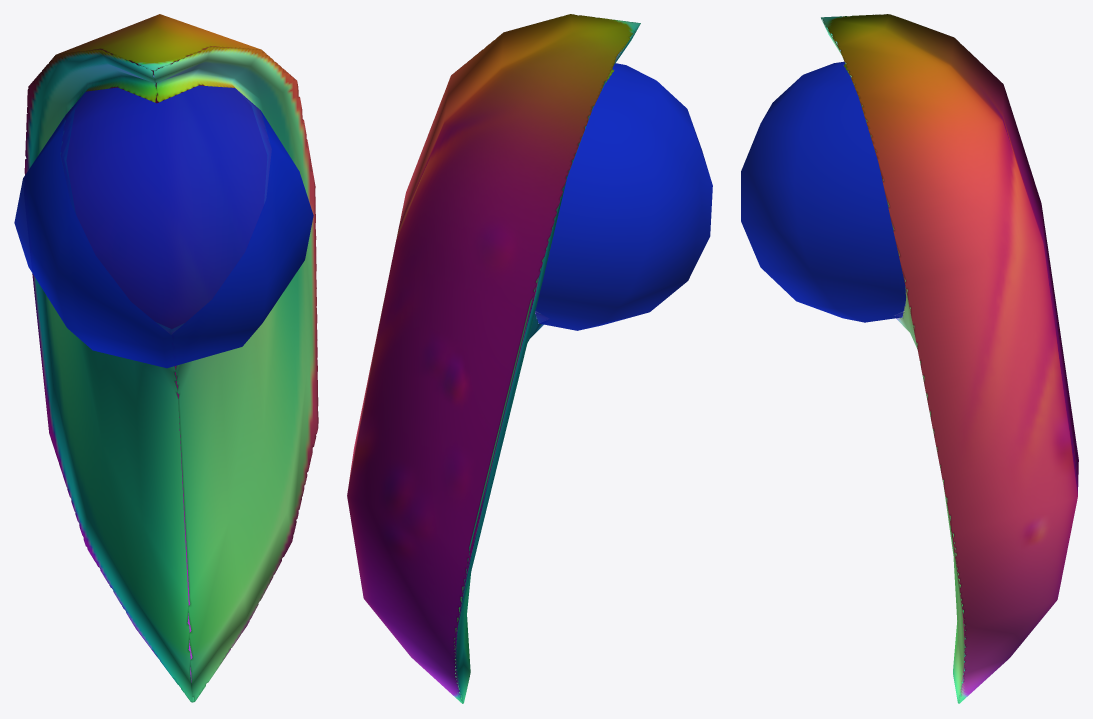
File: ElipPata1.obj
The picture shows the model from 3 angles, left to right: view 1: azimuth 30°, elevation 25°; view 2: azimuth 150°, elevation 25°; view 3: azimuth 270°, elevation 25°; orthographic projection. The views are drawn at different scales.
Visible parts, largest first — view 1: Sphere.004_Sphere.000; view 2: Sphere.004_Sphere.000; view 3: Sphere.004_Sphere.000.
Boxes of the visible parts, bbox=[...] form: Sphere.004_Sphere.000: bbox=[14, 14, 318, 702]; Sphere.004_Sphere.000: bbox=[347, 14, 712, 703]; Sphere.004_Sphere.000: bbox=[741, 14, 1078, 703].
Size of the model in its own units: 2.14 by 4.53 by 2.16.
